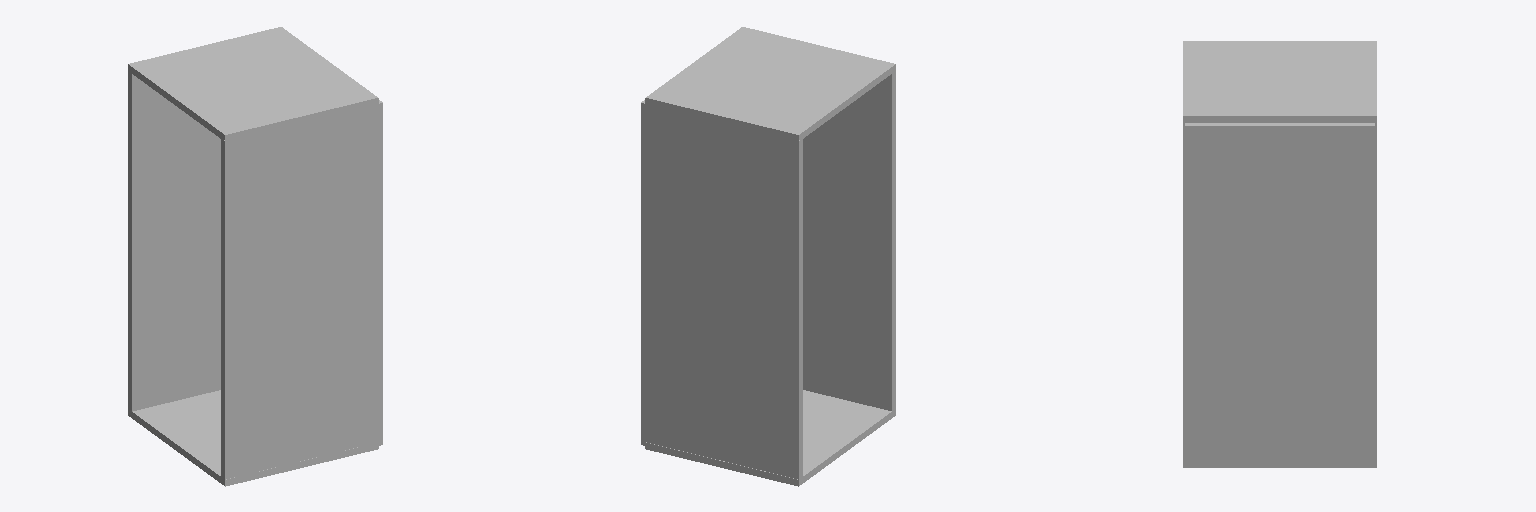
The model's file is CuartoBano.obj.
The picture shows the model from 3 angles: view 1: azimuth 30°, elevation 25°; view 2: azimuth 150°, elevation 25°; view 3: azimuth 270°, elevation 25°; orthographic projection.
Size of the model in its own units: 4.15 by 8.76 by 4.39.